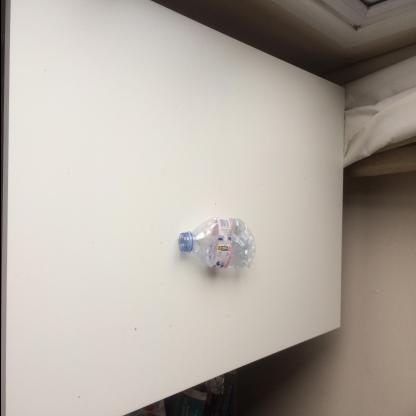plastik: (177, 217, 255, 269)
